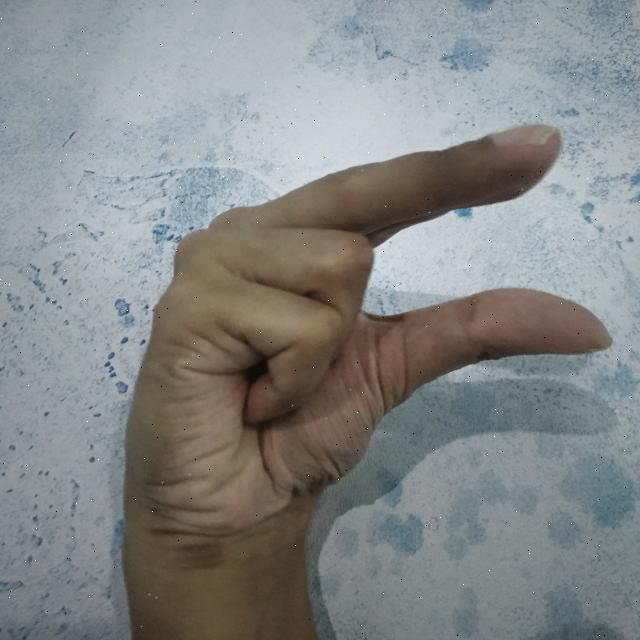G: (118, 118, 621, 640)
